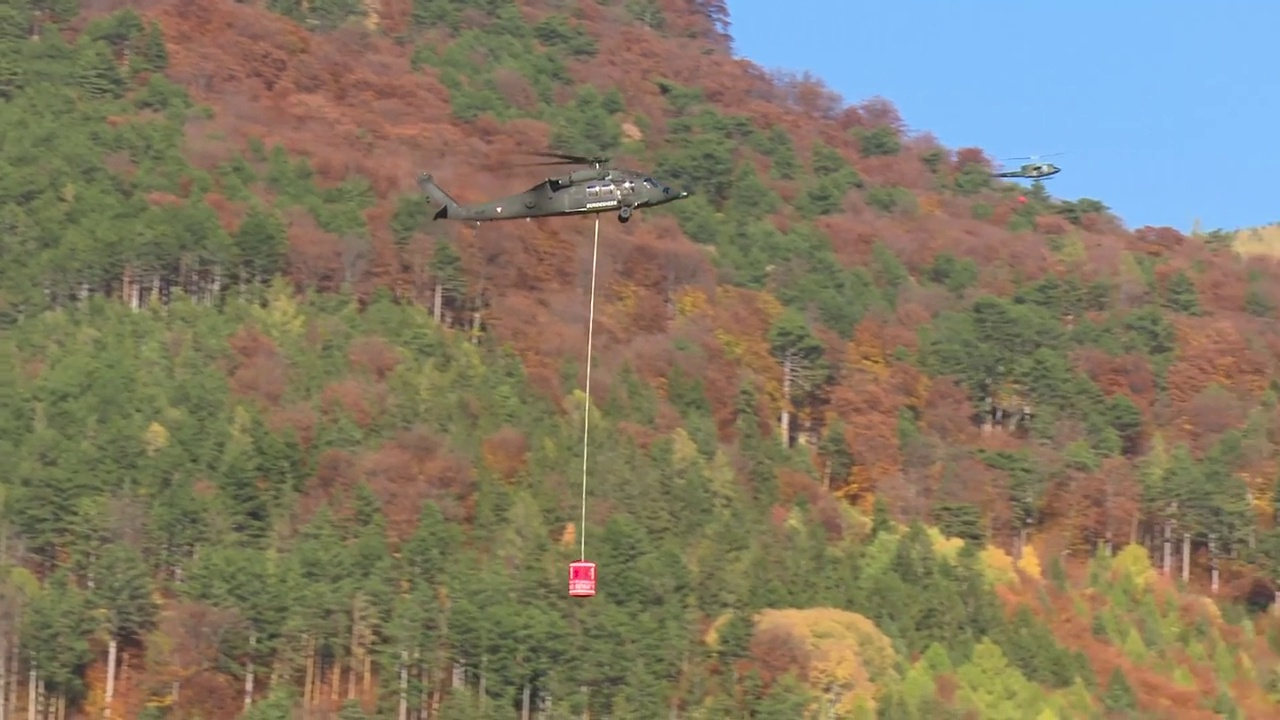heli: (418, 152, 692, 225), (978, 150, 1062, 182)
